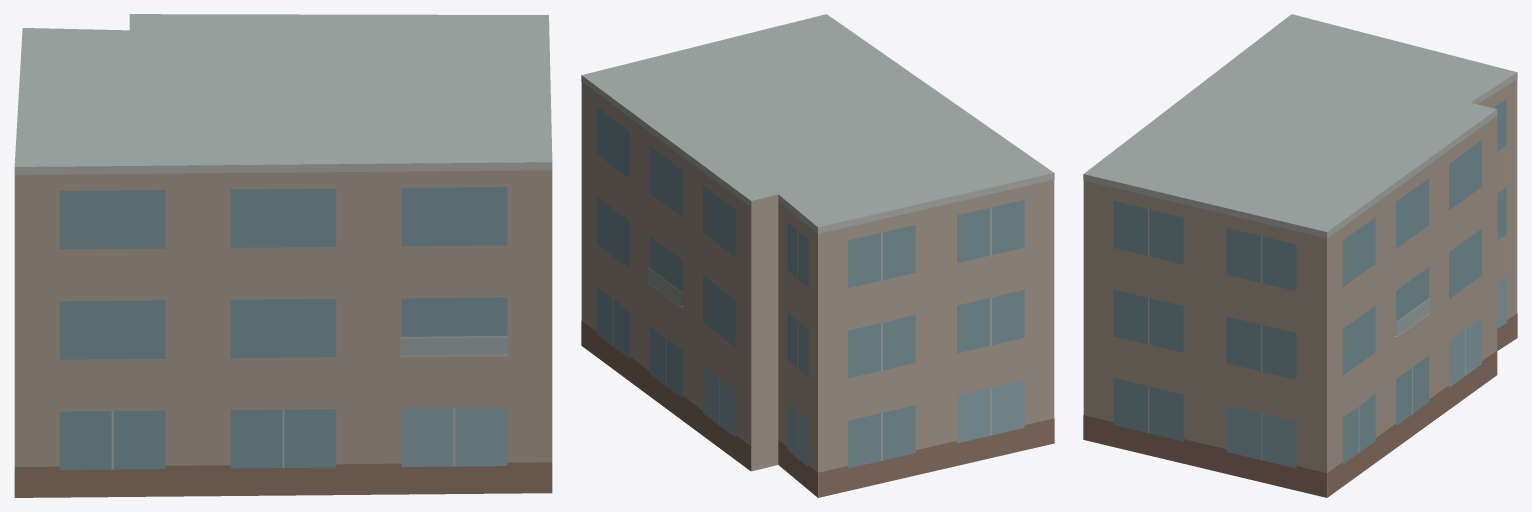
Rendered from survey-upis-32958083.glb.
The picture shows the model from 3 angles, left to right: view 1: azimuth 30°, elevation 25°; view 2: azimuth 150°, elevation 25°; view 3: azimuth 270°, elevation 25°; orthographic projection. The views are drawn at different scales.
Visible parts, largest first — view 1: survey-upis-32958083.tmp; view 2: survey-upis-32958083.tmp; view 3: survey-upis-32958083.tmp.
Boxes of the visible parts, x1,y1,x2,y2 form: survey-upis-32958083.tmp: (14, 14, 552, 497); survey-upis-32958083.tmp: (581, 14, 1054, 497); survey-upis-32958083.tmp: (1083, 14, 1517, 497).
Size of the model in its own units: 17.79 by 10.1 by 14.96.
